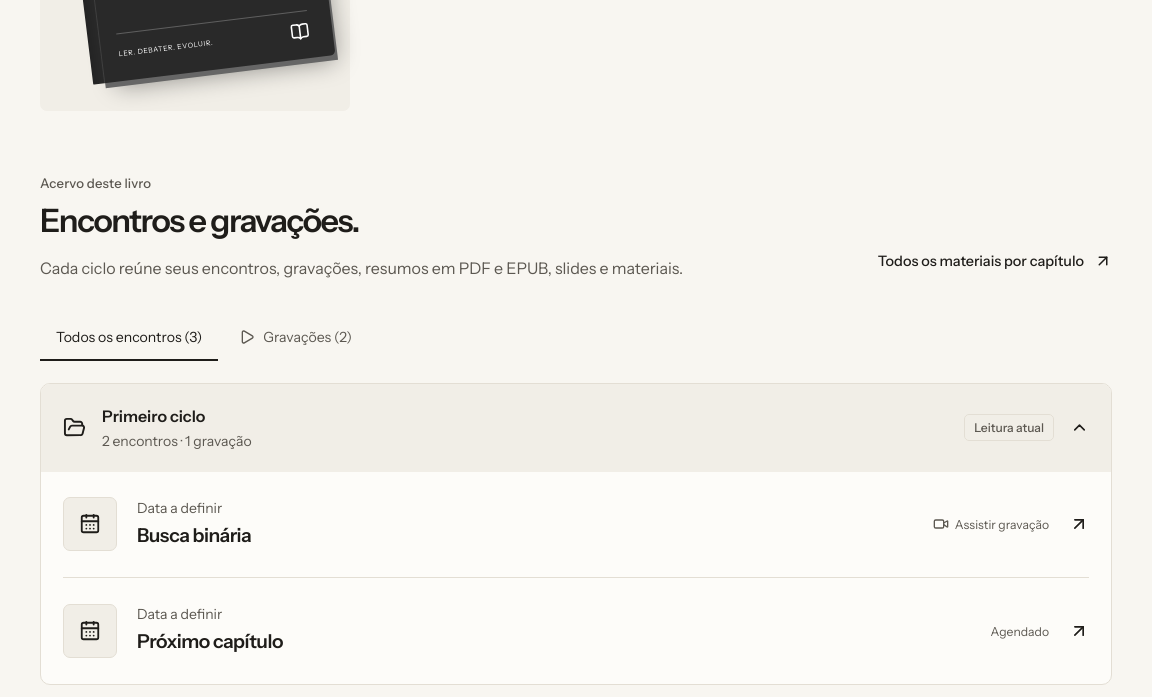
Test case: book recordings are filtered inside their own cycle folders
(page scrolled)
Click the button "Gravações (2)" at (296,338), box [223,314,368,360]
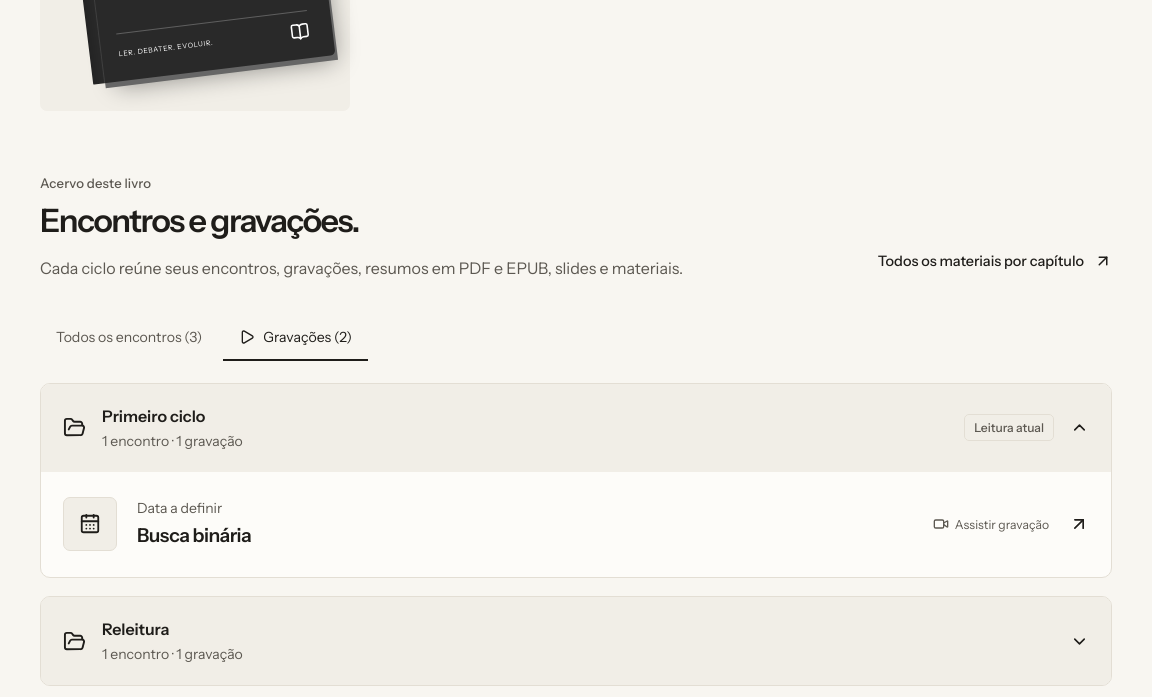
Check: the link "Próximo capítulo" is gone
Click the button "Todos os encontros (3)" at (129,338), box [40,314,218,360]
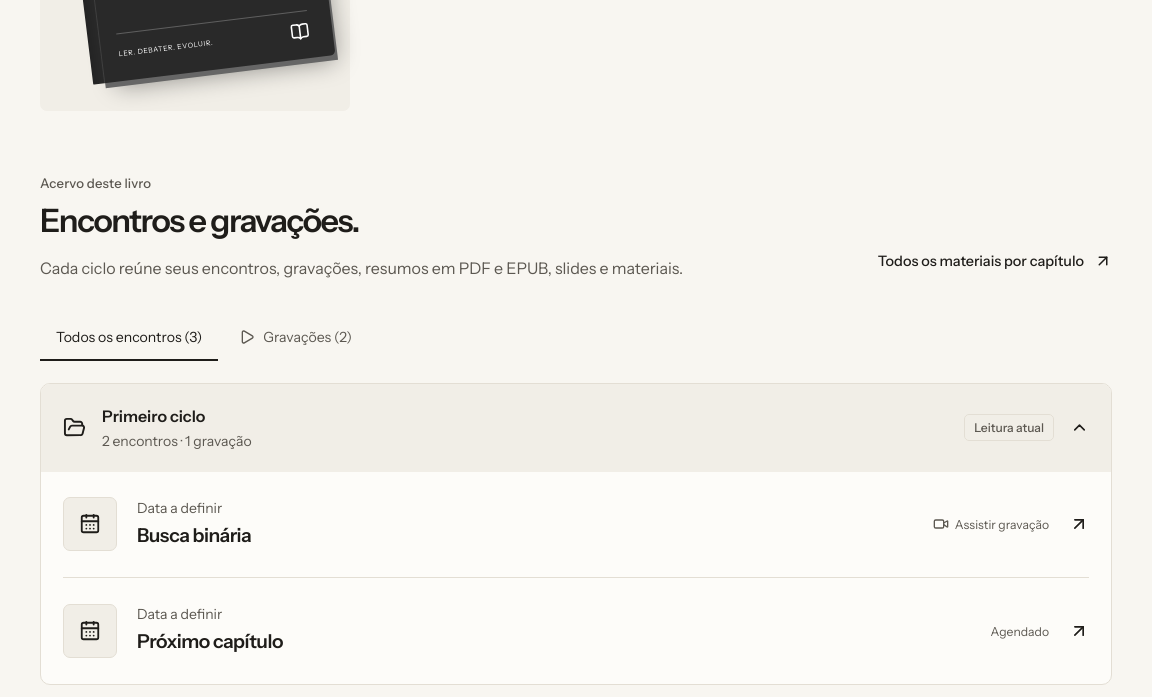
Check: the heading "Próximo capítulo" is shown, box [137,629,283,653]
